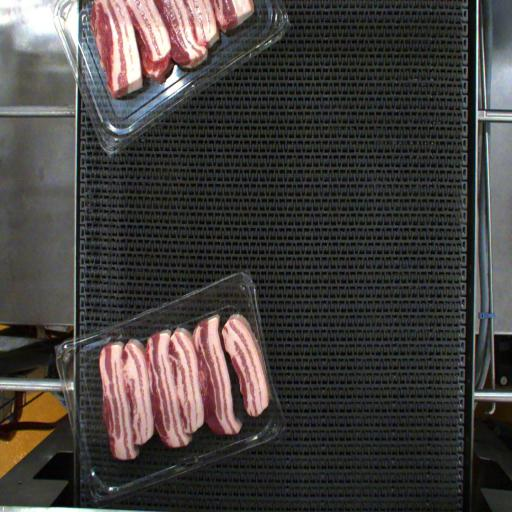loose-meat: (222, 315, 268, 413)
